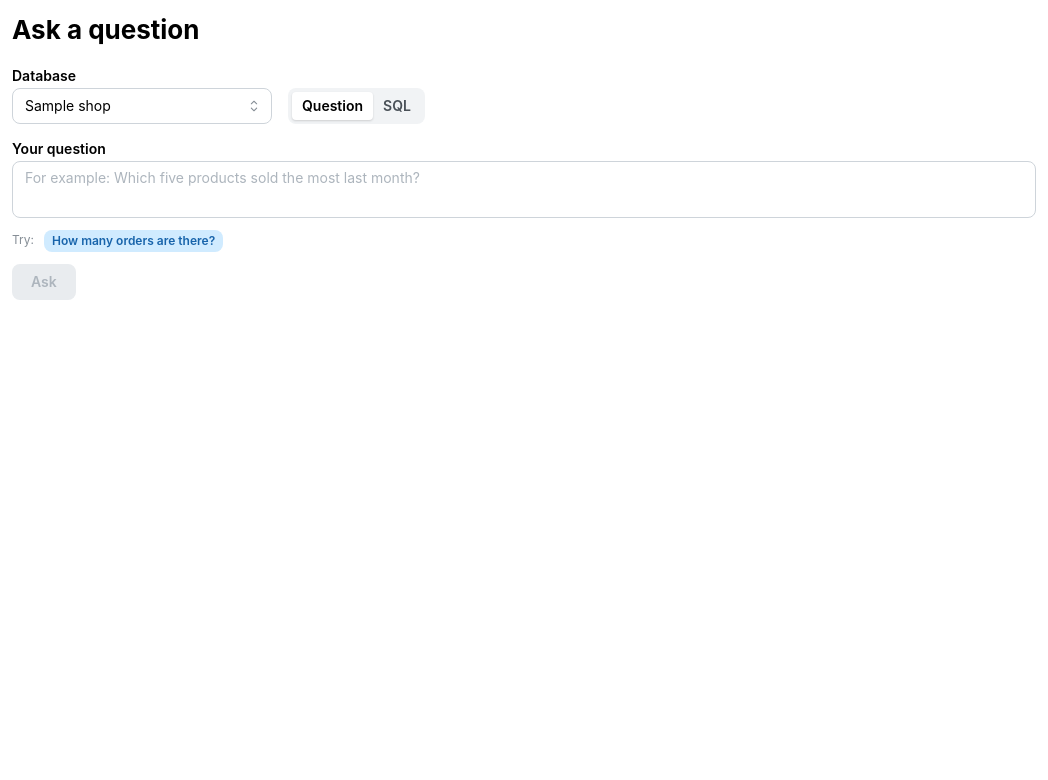
Test: AskPage › asks the question and shows the summary, the rows, and the SQL
The image size is (1048, 780).
Type "How many orders per region?" into the text box labelled "Your question" at (524, 189), box [12,161,1036,218]
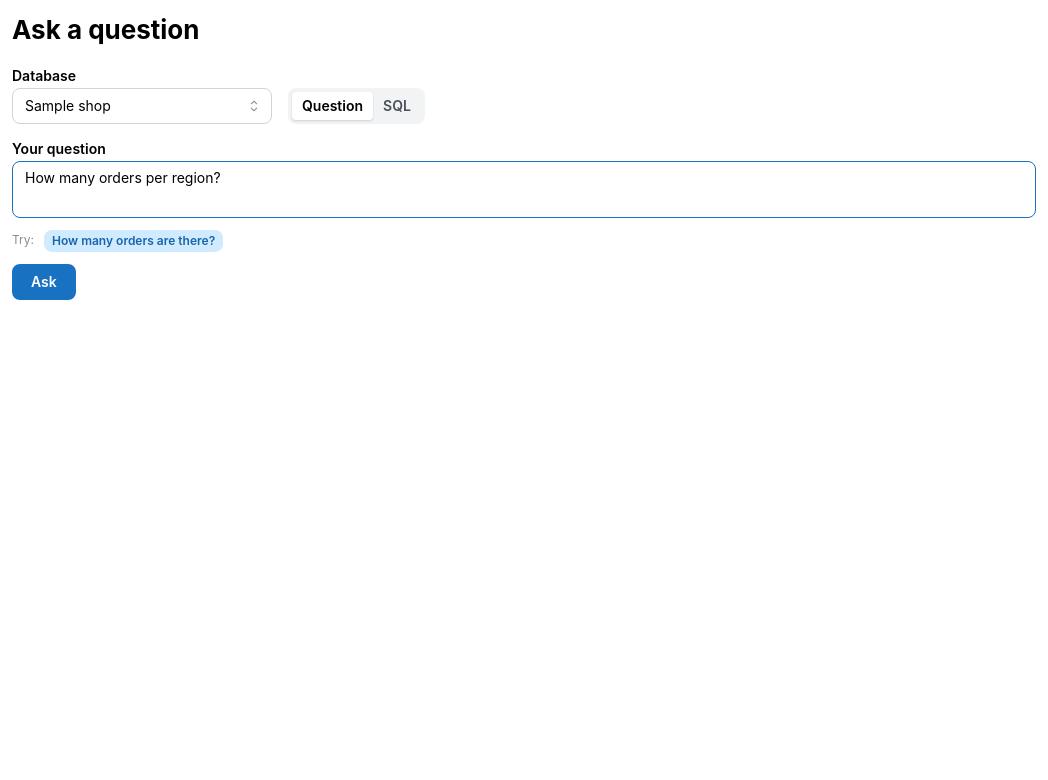
Click the button "Ask" at (44, 282), box [12,264,76,300]
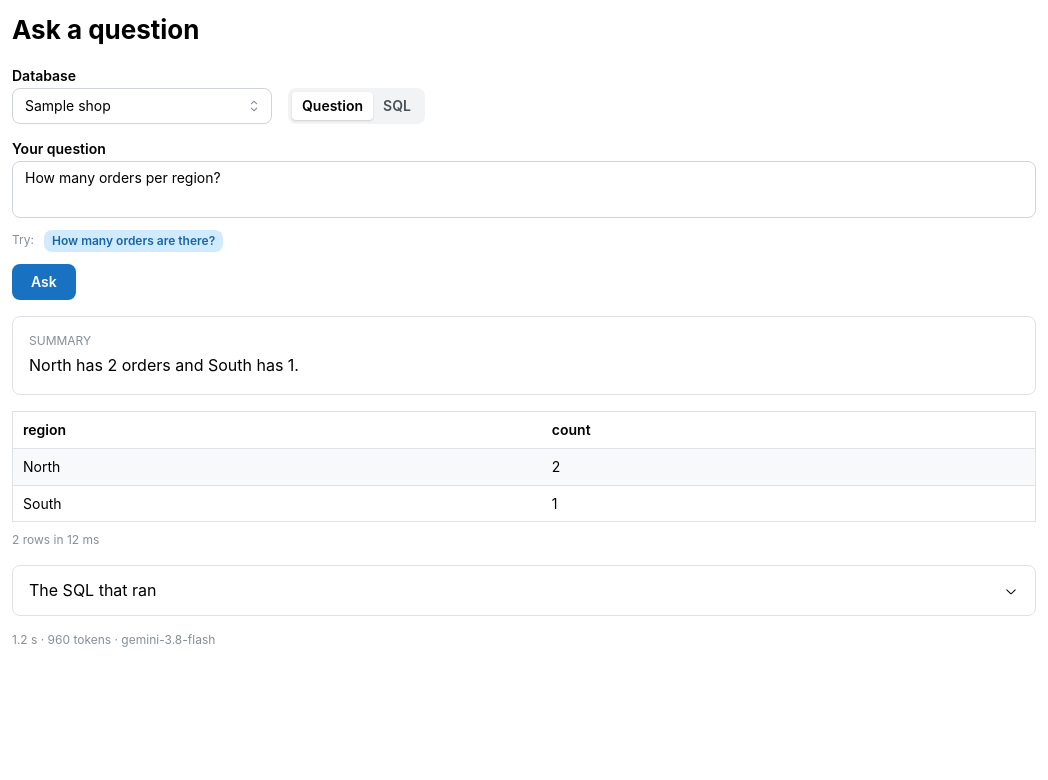
Expected: the text "North has 2 orders and South has 1." is shown, [29,356,299,376]
Expected: the text "North" is shown, [12,448,542,485]
Expected: the text "2 rows in 12 ms" is shown, [12,532,99,547]
Click the button "The SQL that ran" at (93, 590), box [13,566,1035,615]
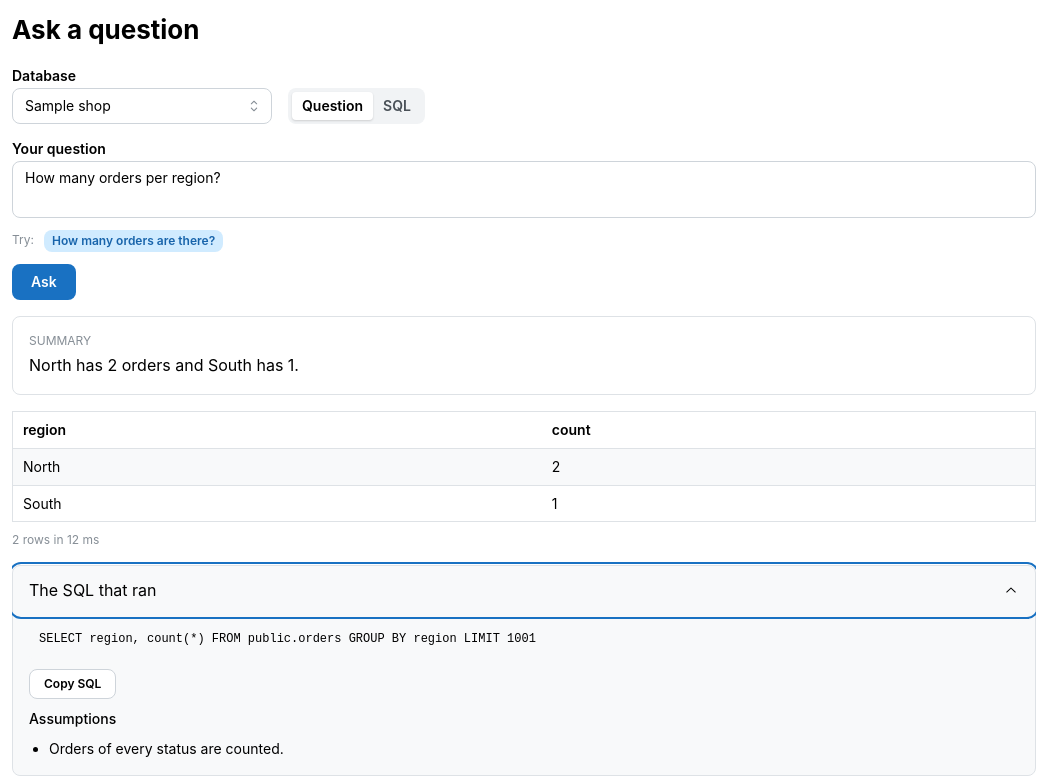
Expected: the text "SELECT region, count(*) FROM public.orders GROUP BY region LIMIT 1001" is shown, [29,620,1019,658]
Expected: the text "Orders of every status are counted." is shown, [49,739,284,759]
